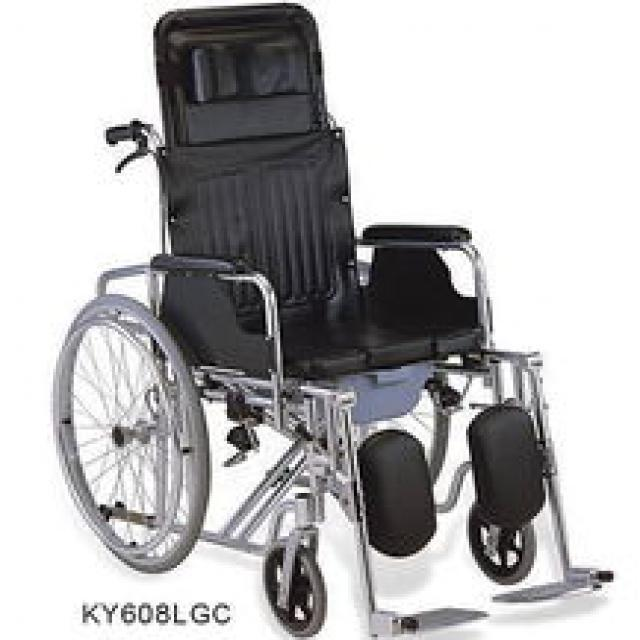wheelchair: (32, 2, 622, 634)
